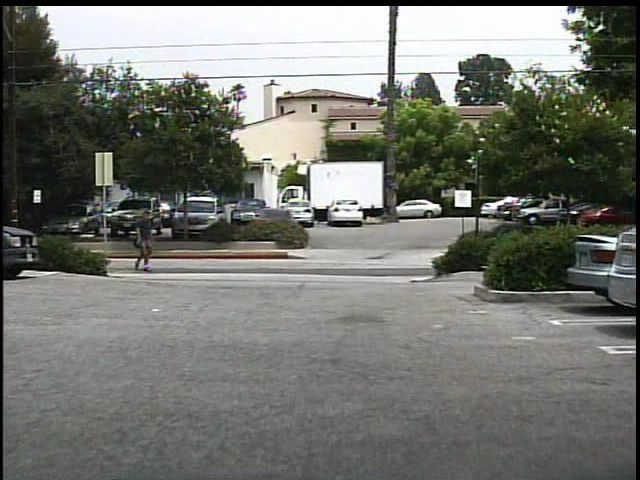person: (128, 209, 161, 277)
